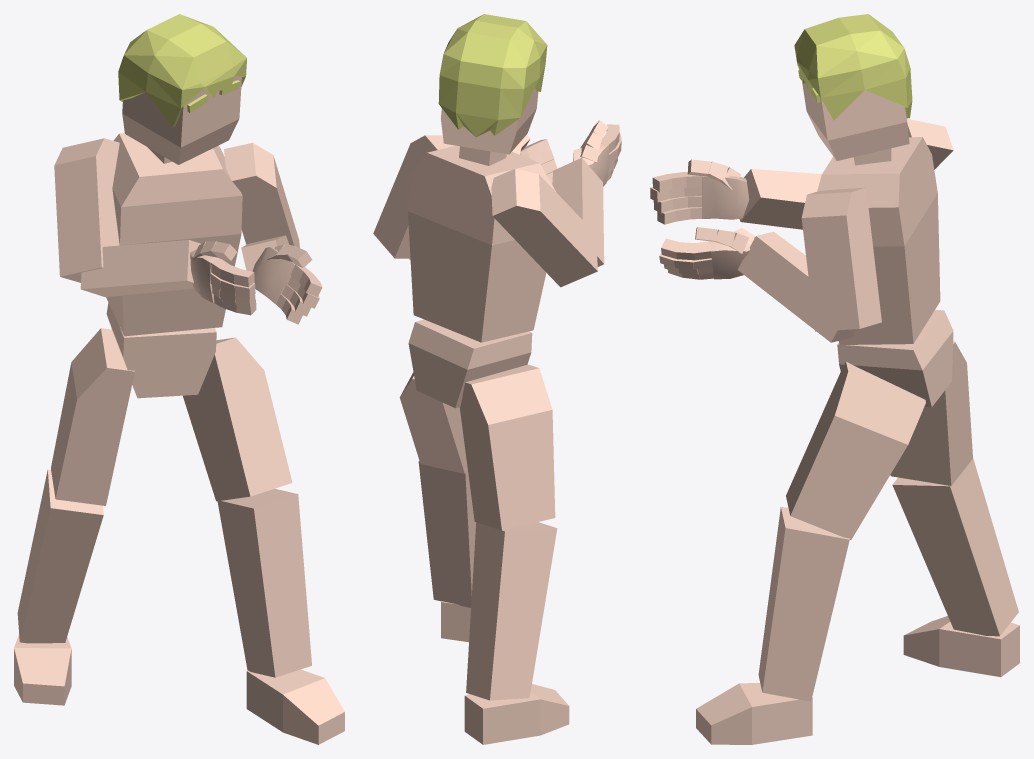
Rendered from holding.glb.
3 views of the same model, side by side, from view 1: azimuth 30°, elevation 25°; view 2: azimuth 150°, elevation 25°; view 3: azimuth 270°, elevation 25° (orthographic). The views are drawn at different scales.
Visible parts, largest first — view 1: bodyV2.001; view 2: bodyV2.001; view 3: bodyV2.001.
Boxes of the visible parts, x1,y1,x2,y2 form: bodyV2.001: [14, 14, 344, 744]; bodyV2.001: [373, 14, 621, 744]; bodyV2.001: [650, 14, 1019, 744].
Bounding box in the file's own units: 0.5917 × 1.58 × 0.7866.
